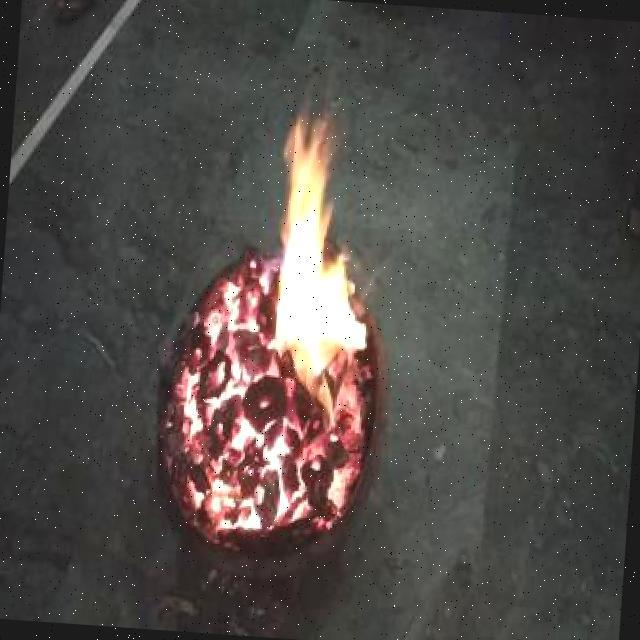Fire: (253, 93, 388, 541), (150, 250, 273, 560)
